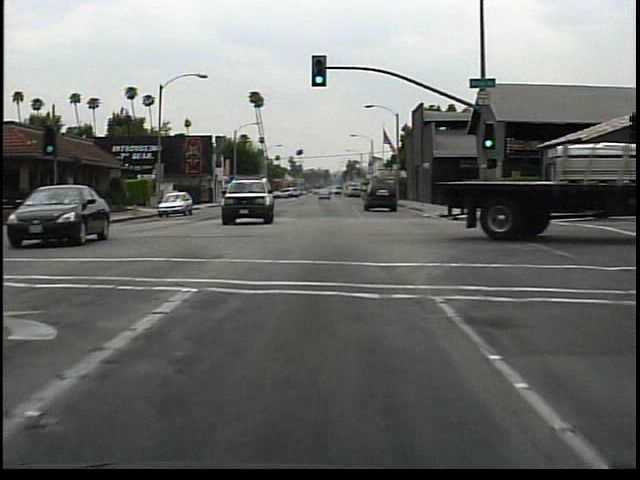person: (169, 182, 186, 206)
